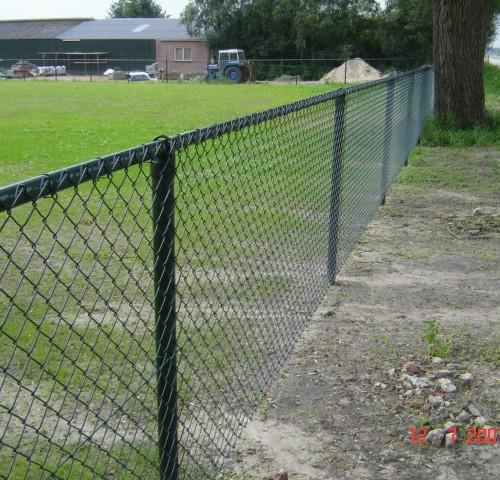obstacle: (55, 57, 474, 478)
